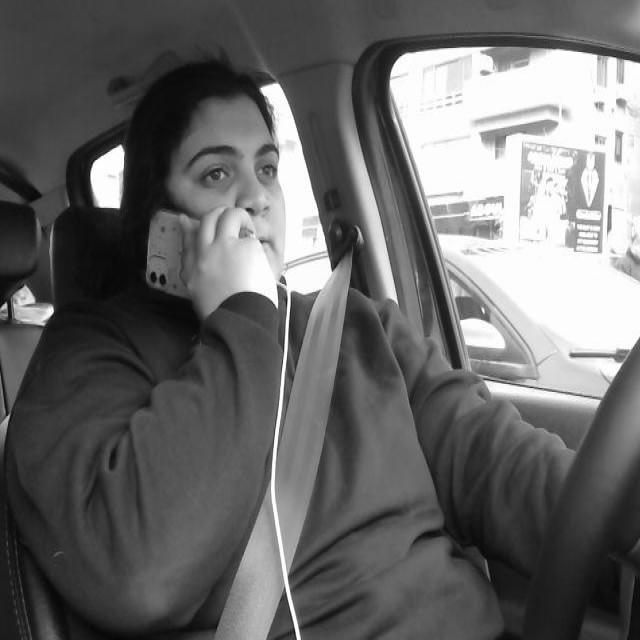mobile use: (142, 197, 275, 321)
